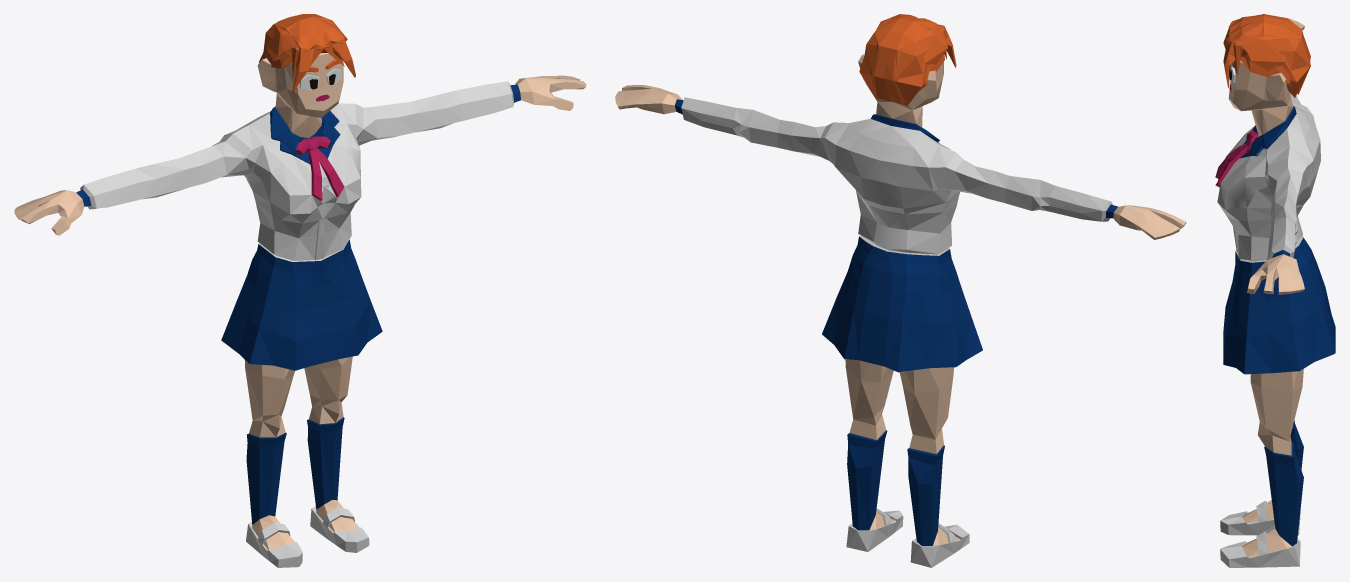
File: WaifuTest.fbx
3 renders of one model, left to right at view 1: azimuth 30°, elevation 25°; view 2: azimuth 150°, elevation 25°; view 3: azimuth 270°, elevation 25°, orthographic.
Parts seen in each view (by area): view 1: Eyes.001; view 2: Eyes.001; view 3: Eyes.001.
Part boxes in pixels (<box>): Eyes.001: <box>14,14,586,567</box>; Eyes.001: <box>615,14,1186,567</box>; Eyes.001: <box>1215,14,1335,567</box>.
Bounding box in the file's own units: 204 × 182 × 37.71.
